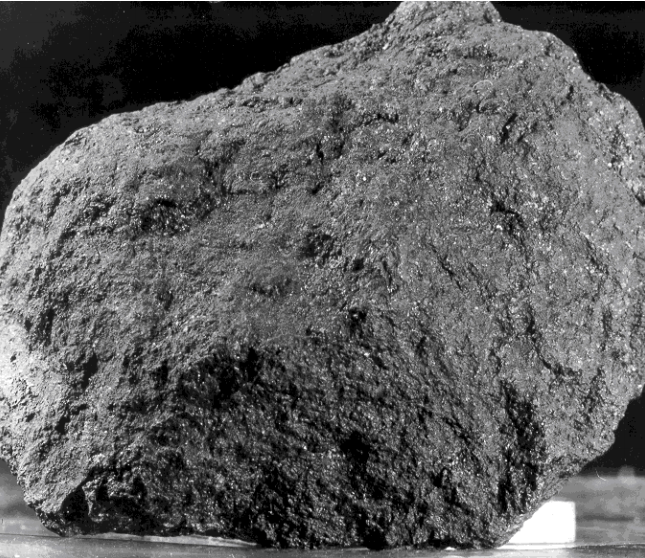Basalt: (35, 60, 637, 542), (135, 161, 623, 435)
